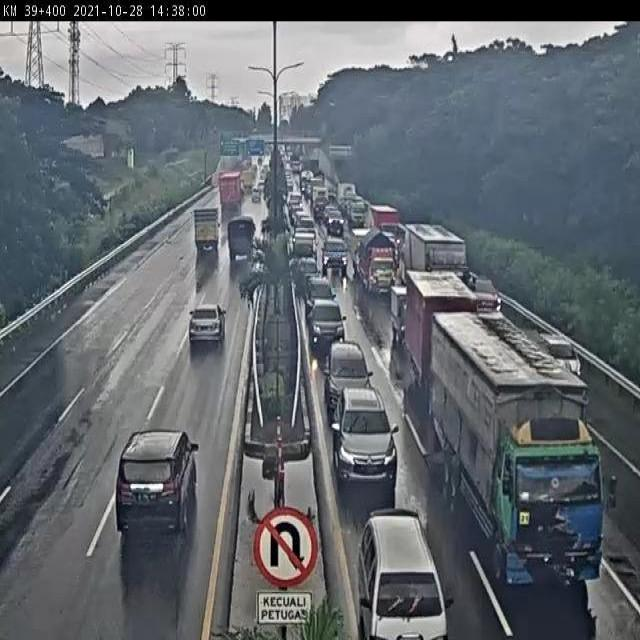car: (321, 234, 349, 274)
truck-l-: (432, 314, 600, 586), (405, 226, 474, 302)
truck-m-: (357, 227, 397, 294), (228, 219, 255, 261), (195, 211, 220, 253)
